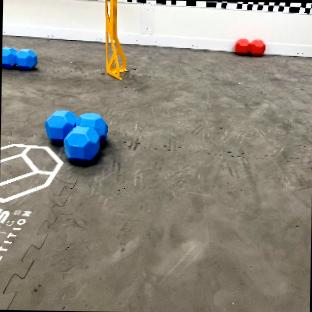V5_BLUE: (43, 109, 109, 161), (2, 46, 36, 69)
V5_RED: (234, 38, 265, 54)
